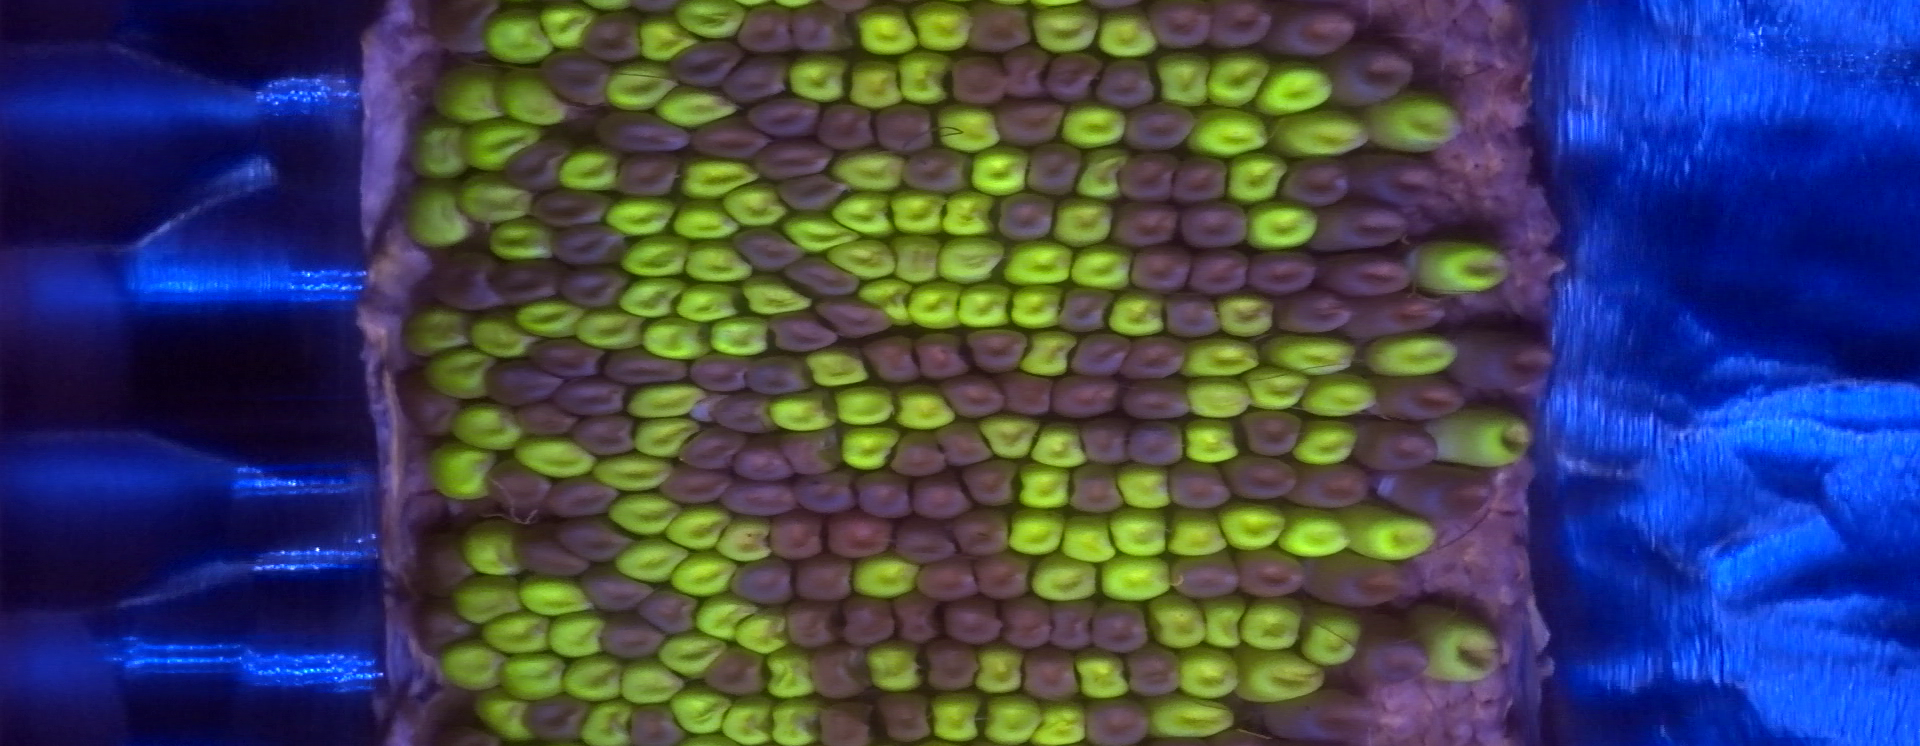fluorescent: (1409, 603, 1502, 684), (1436, 402, 1533, 474), (1411, 236, 1507, 300), (1367, 97, 1462, 152), (431, 62, 509, 122), (1343, 510, 1435, 560), (1238, 649, 1329, 699), (1367, 331, 1460, 379), (492, 67, 568, 125), (419, 348, 497, 403), (1202, 48, 1266, 110), (405, 187, 471, 247), (1142, 593, 1209, 653), (1103, 550, 1171, 609), (827, 146, 909, 194), (1277, 503, 1349, 557), (1275, 111, 1365, 154), (441, 404, 527, 450), (462, 122, 545, 169), (430, 443, 496, 501), (484, 7, 552, 62), (678, 156, 759, 202), (1265, 333, 1354, 375), (1298, 369, 1375, 416), (1296, 606, 1358, 665), (735, 274, 817, 318), (1215, 500, 1284, 551), (1024, 555, 1101, 601), (664, 502, 733, 552), (454, 175, 531, 220), (1223, 152, 1286, 207), (1242, 201, 1315, 247), (613, 537, 687, 583), (1188, 111, 1267, 154), (1180, 334, 1258, 379), (1258, 62, 1329, 110), (399, 305, 470, 353), (1002, 236, 1070, 285), (864, 636, 924, 691), (969, 143, 1031, 196), (1152, 53, 1209, 110), (1113, 457, 1171, 513), (607, 492, 681, 537), (621, 232, 688, 279), (1153, 695, 1228, 737), (909, 1, 972, 51), (1068, 243, 1136, 289), (681, 241, 753, 285), (831, 194, 896, 243), (1174, 646, 1239, 695), (478, 610, 549, 654), (1031, 2, 1095, 51), (637, 412, 700, 461), (595, 448, 670, 490), (464, 523, 520, 578), (1108, 505, 1168, 556), (518, 439, 596, 478), (853, 6, 916, 55), (838, 423, 900, 472), (626, 382, 711, 418), (1075, 149, 1131, 203), (574, 310, 647, 352), (787, 54, 849, 103), (940, 233, 1007, 278), (604, 61, 673, 104), (1049, 197, 1113, 244), (667, 555, 738, 597), (473, 687, 531, 737), (887, 187, 947, 236), (940, 189, 1002, 236), (671, 279, 738, 322), (894, 50, 953, 99), (517, 576, 595, 612), (615, 274, 680, 318), (720, 184, 789, 225), (502, 654, 563, 701), (655, 91, 741, 124), (453, 581, 519, 624), (512, 296, 584, 336), (1164, 508, 1227, 554), (1075, 646, 1131, 696), (789, 216, 858, 256), (1100, 9, 1157, 58), (851, 554, 918, 595), (802, 348, 867, 391), (770, 390, 835, 432), (845, 58, 898, 110), (1005, 505, 1062, 554), (463, 318, 535, 356), (1057, 107, 1127, 146), (662, 631, 721, 677), (893, 385, 956, 428), (486, 220, 553, 261), (716, 517, 776, 562), (733, 611, 793, 657), (443, 643, 498, 692), (1242, 604, 1299, 650), (978, 409, 1037, 454), (934, 105, 994, 149), (718, 696, 771, 745), (600, 196, 671, 233), (958, 281, 1015, 326), (676, 1, 744, 39), (1215, 295, 1277, 337), (1188, 375, 1250, 416), (1298, 424, 1360, 465), (636, 17, 694, 61), (910, 281, 962, 330), (1018, 462, 1071, 510), (566, 653, 620, 701), (1018, 331, 1075, 375), (823, 243, 894, 278), (692, 597, 763, 632), (416, 126, 467, 176), (1057, 511, 1107, 561), (647, 316, 705, 359), (1033, 426, 1092, 469), (621, 658, 680, 701), (556, 151, 620, 190), (667, 692, 731, 731), (1109, 290, 1166, 334), (671, 202, 738, 239), (711, 315, 767, 359), (860, 277, 911, 323), (544, 611, 606, 649), (1198, 597, 1245, 646), (984, 695, 1035, 741), (1251, 370, 1307, 412), (1180, 423, 1240, 461), (764, 646, 804, 702), (894, 232, 936, 285), (583, 698, 636, 740), (977, 647, 1024, 693), (1010, 284, 1060, 327), (538, 6, 590, 47), (1040, 701, 1089, 744), (839, 383, 889, 425), (932, 697, 980, 740), (773, 699, 817, 741)
nonfluorescent: (1262, 690, 1390, 746), (1458, 323, 1558, 390), (1382, 463, 1498, 518), (1349, 610, 1431, 685), (1307, 551, 1403, 606), (1309, 205, 1416, 254), (1337, 40, 1412, 105), (1349, 420, 1444, 470), (1375, 372, 1466, 421), (424, 251, 498, 310), (411, 530, 475, 599), (512, 523, 585, 582), (1271, 9, 1358, 58), (1346, 293, 1450, 333), (1357, 156, 1442, 205), (429, 1, 500, 60), (411, 597, 482, 654), (595, 113, 696, 153), (553, 511, 628, 563), (860, 330, 923, 388), (394, 369, 449, 436), (804, 646, 877, 696), (600, 345, 689, 386), (480, 457, 549, 510), (547, 48, 609, 107), (1089, 597, 1155, 650), (1292, 462, 1370, 507), (490, 260, 563, 307), (1051, 374, 1124, 421), (1271, 289, 1348, 334), (1223, 453, 1300, 499), (1082, 696, 1153, 745), (1164, 549, 1237, 597), (1237, 548, 1307, 597), (820, 512, 893, 559), (1019, 644, 1078, 701), (672, 38, 740, 87), (962, 325, 1030, 374), (482, 360, 557, 404), (1123, 644, 1185, 697), (1330, 256, 1411, 296), (746, 96, 822, 138), (876, 690, 937, 742), (1178, 202, 1249, 247), (553, 262, 624, 307), (949, 505, 1011, 556), (812, 696, 876, 746), (731, 223, 800, 269), (1249, 250, 1318, 296), (549, 473, 617, 519), (993, 100, 1065, 145), (1210, 1, 1275, 50), (1046, 597, 1100, 655), (993, 191, 1054, 243), (764, 510, 825, 561), (1127, 103, 1194, 149), (613, 154, 682, 200), (966, 6, 1032, 53), (1120, 336, 1187, 382), (1166, 463, 1232, 510), (707, 646, 768, 696), (549, 222, 622, 263), (817, 296, 890, 338), (1189, 246, 1251, 295), (1151, 2, 1215, 50), (874, 103, 938, 151), (971, 548, 1031, 598), (1282, 159, 1348, 205), (529, 336, 599, 379), (889, 590, 943, 646), (1074, 416, 1131, 468), (909, 474, 973, 519), (790, 4, 851, 51), (958, 462, 1020, 508), (942, 597, 1004, 643), (840, 594, 891, 650), (1127, 247, 1190, 293), (517, 695, 580, 740), (891, 517, 955, 562), (789, 256, 857, 298), (1114, 203, 1176, 250), (1237, 408, 1298, 454), (588, 10, 642, 62), (1122, 152, 1176, 205), (551, 379, 628, 415), (694, 118, 767, 157), (913, 557, 977, 601), (1123, 421, 1183, 468), (533, 189, 609, 225), (790, 559, 855, 601), (999, 595, 1051, 649), (504, 138, 560, 189), (1027, 145, 1082, 195), (660, 464, 726, 506), (763, 312, 835, 350), (1120, 379, 1190, 418), (599, 612, 662, 655), (916, 332, 969, 383), (744, 355, 809, 397), (1162, 292, 1223, 336), (921, 641, 976, 690), (1173, 158, 1229, 206), (784, 601, 842, 647), (760, 138, 830, 176), (933, 421, 993, 465), (790, 473, 857, 512), (583, 570, 650, 609), (770, 176, 850, 209), (640, 587, 696, 635), (1097, 62, 1153, 109), (819, 103, 876, 149), (1070, 331, 1127, 377), (855, 470, 911, 517), (722, 479, 796, 514), (950, 58, 1008, 103), (687, 350, 747, 393), (1062, 288, 1117, 334), (733, 436, 790, 481), (732, 559, 790, 603), (906, 149, 969, 190), (780, 431, 842, 472), (740, 6, 790, 56), (890, 428, 943, 475), (683, 426, 740, 470), (574, 415, 636, 456), (714, 390, 776, 429), (1044, 53, 1095, 100), (947, 376, 1005, 416), (1065, 468, 1122, 510), (729, 62, 785, 103), (516, 401, 574, 439), (631, 702, 678, 746), (1004, 53, 1047, 100), (1005, 371, 1052, 412)
